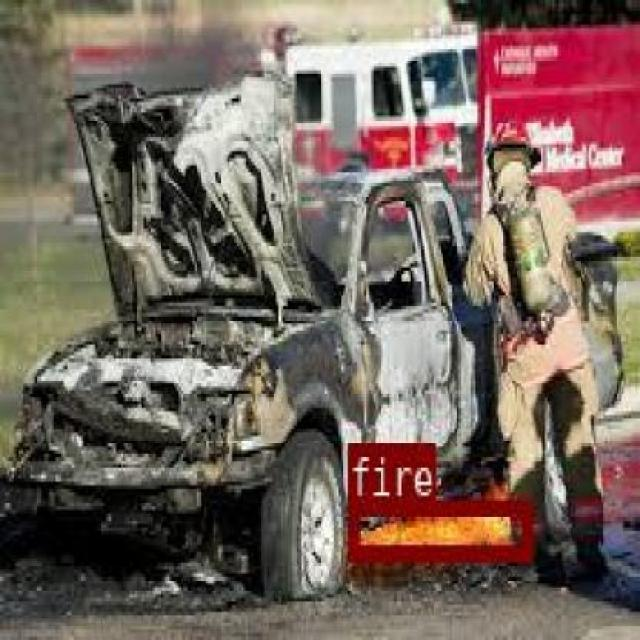Fire: (346, 498, 532, 558)
